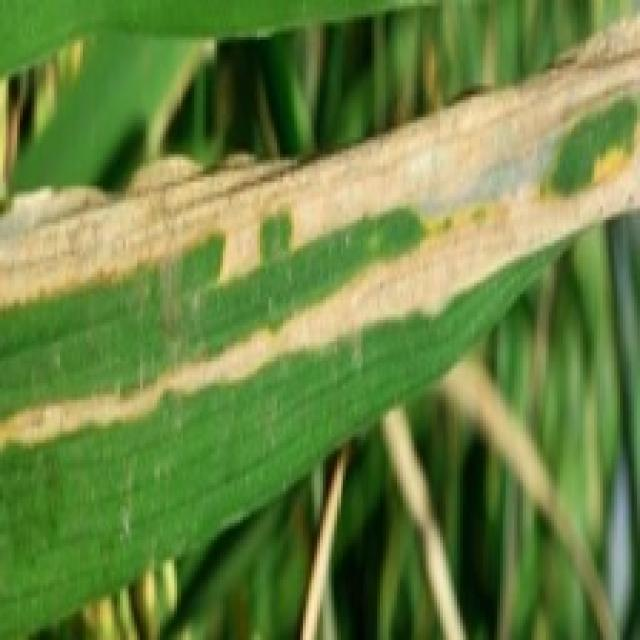Rice___Bacterial_Leaf_Blight: (0, 0, 637, 637)
